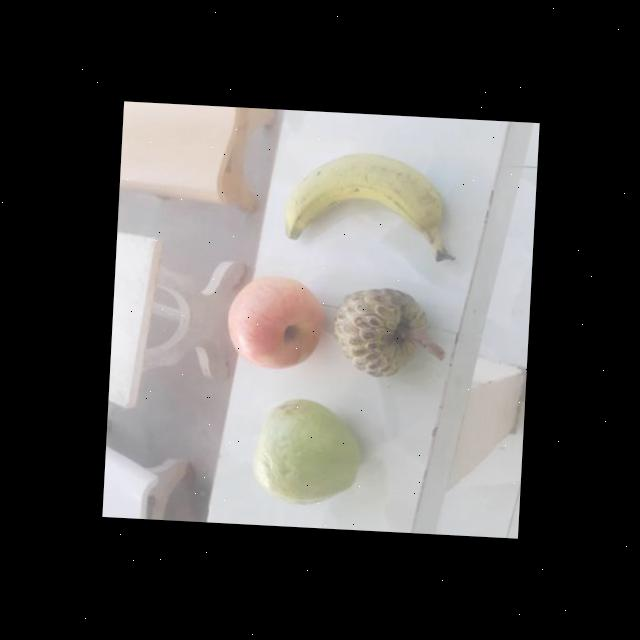Sakya fruit: (332, 286, 432, 384)
apple: (226, 269, 325, 376)
banana: (284, 152, 446, 254)
guava: (254, 401, 362, 510)
